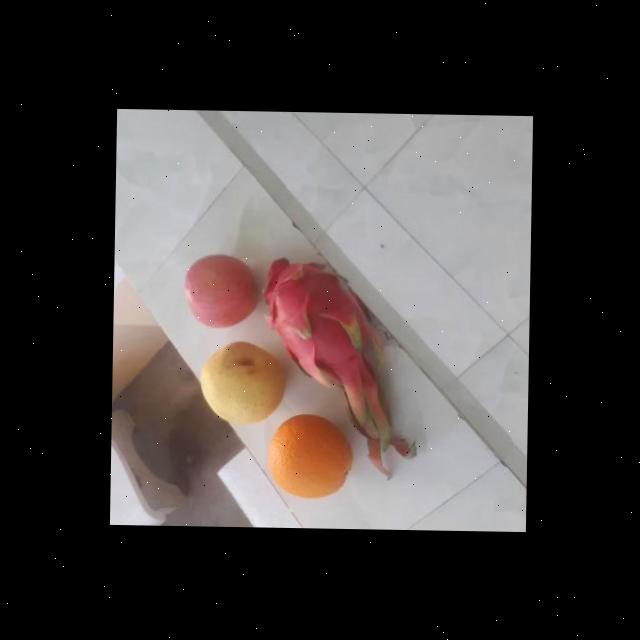apple: (182, 250, 255, 328)
orange: (266, 412, 351, 499)
pear: (200, 336, 286, 428)
pitaya: (262, 252, 366, 380)
